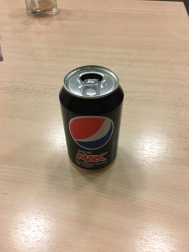can_black: (55, 59, 129, 175)
